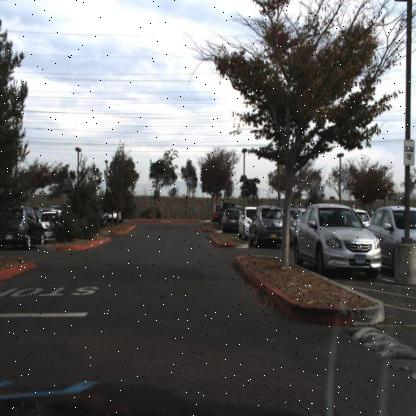car: (294, 204, 380, 279), (365, 200, 415, 270), (0, 212, 47, 257), (248, 205, 283, 247), (42, 207, 62, 243), (238, 205, 254, 239), (218, 198, 236, 226), (221, 207, 239, 235), (109, 209, 123, 223)
